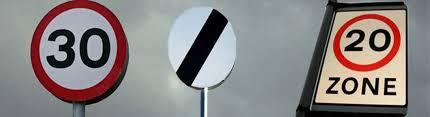Speed_limit_30km: (29, 2, 130, 105)
